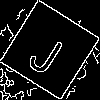J: (25, 24, 72, 78)
